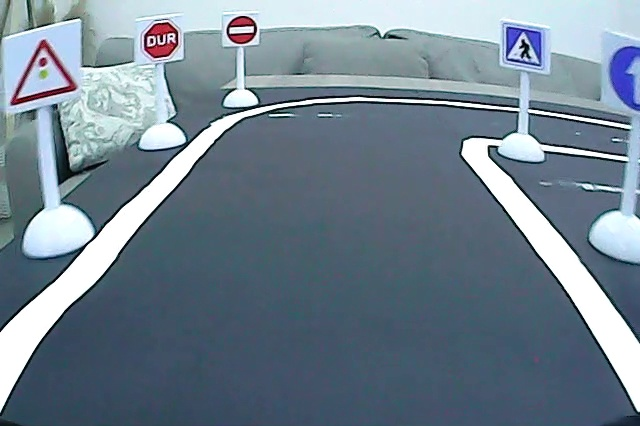do not enter: (225, 14, 259, 49)
pedestrian crossing: (503, 23, 547, 72)
red light: (9, 34, 81, 108)
stop sign: (139, 17, 183, 63)
